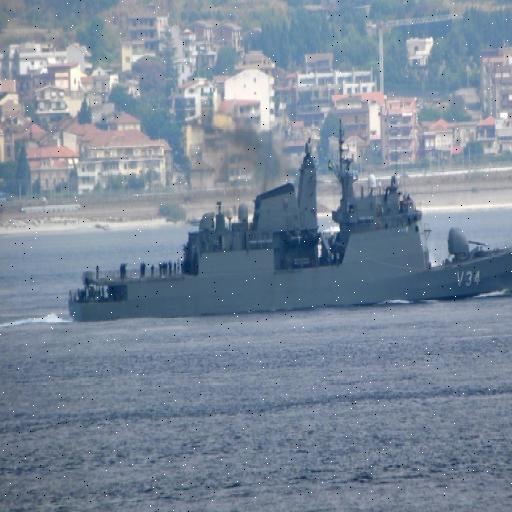Fragata: (64, 120, 512, 329)
